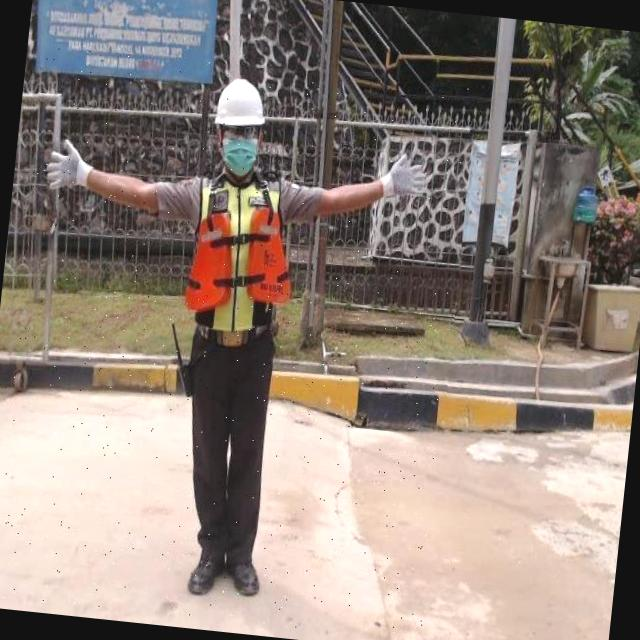boots: (186, 548, 227, 603), (223, 552, 265, 602)
gloves: (360, 132, 440, 205), (38, 128, 92, 204)
helmet: (204, 75, 262, 131)
vest: (185, 168, 302, 338)
